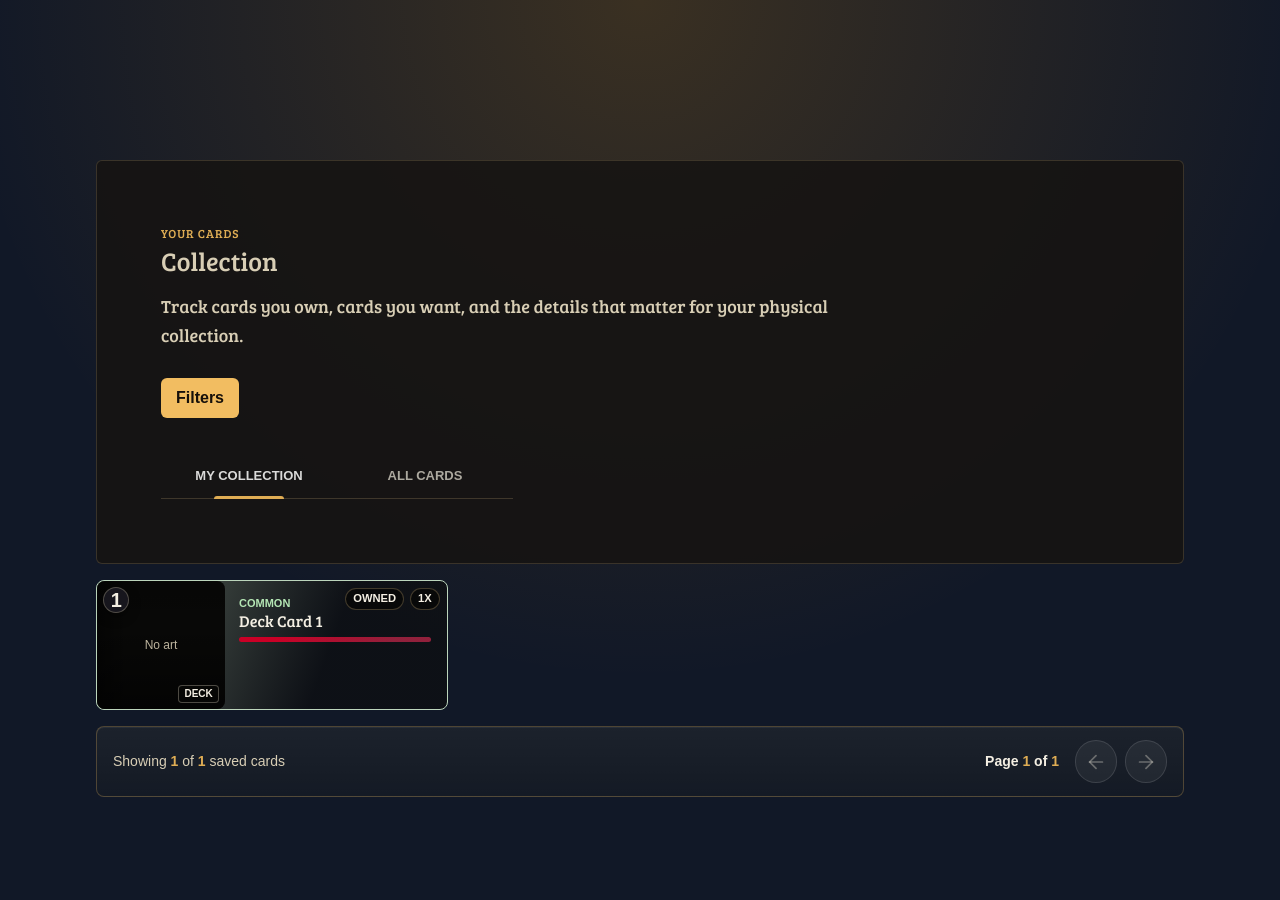
Test: CollectionClient › toggles to all cards and desaturates unsaved cards
Expected: the text "Deck Card 1" is shown, [239,610,323,631]
Click the tab "All cards": (425, 476) [337,454,513,498]
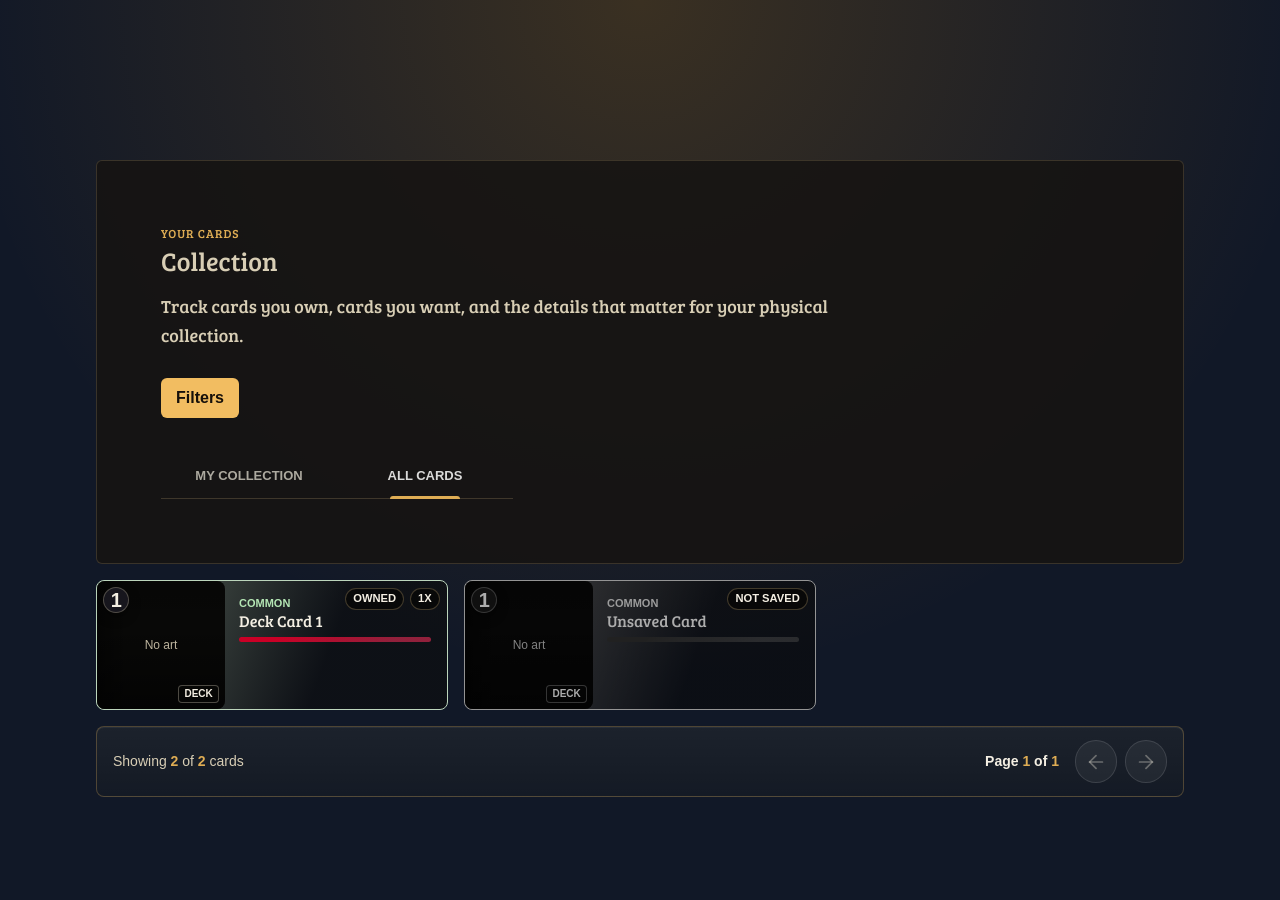
Result: the text "Unsaved Card" is shown at [607,610,707,631]
Result: the text "Not saved" is shown at [727,588,808,610]
